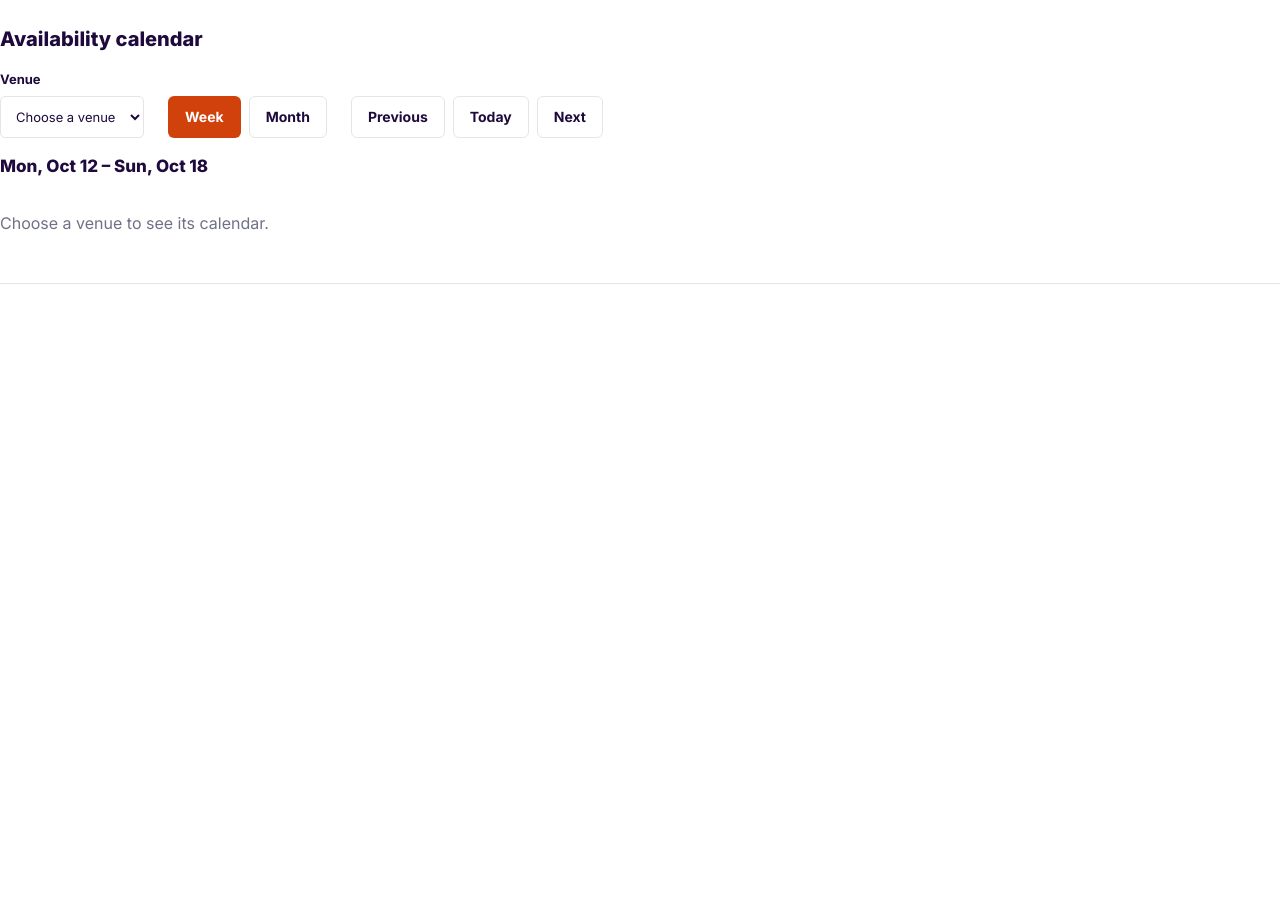
Test: VenueCalendar item details (TC-US21-20, AC 3) › shows the event's name and status, the booking's status, times and reference
The image size is (1280, 900).
Select "Hall A" in the dropdown labelled "Venue" at (72, 116), box [0,96,144,138]
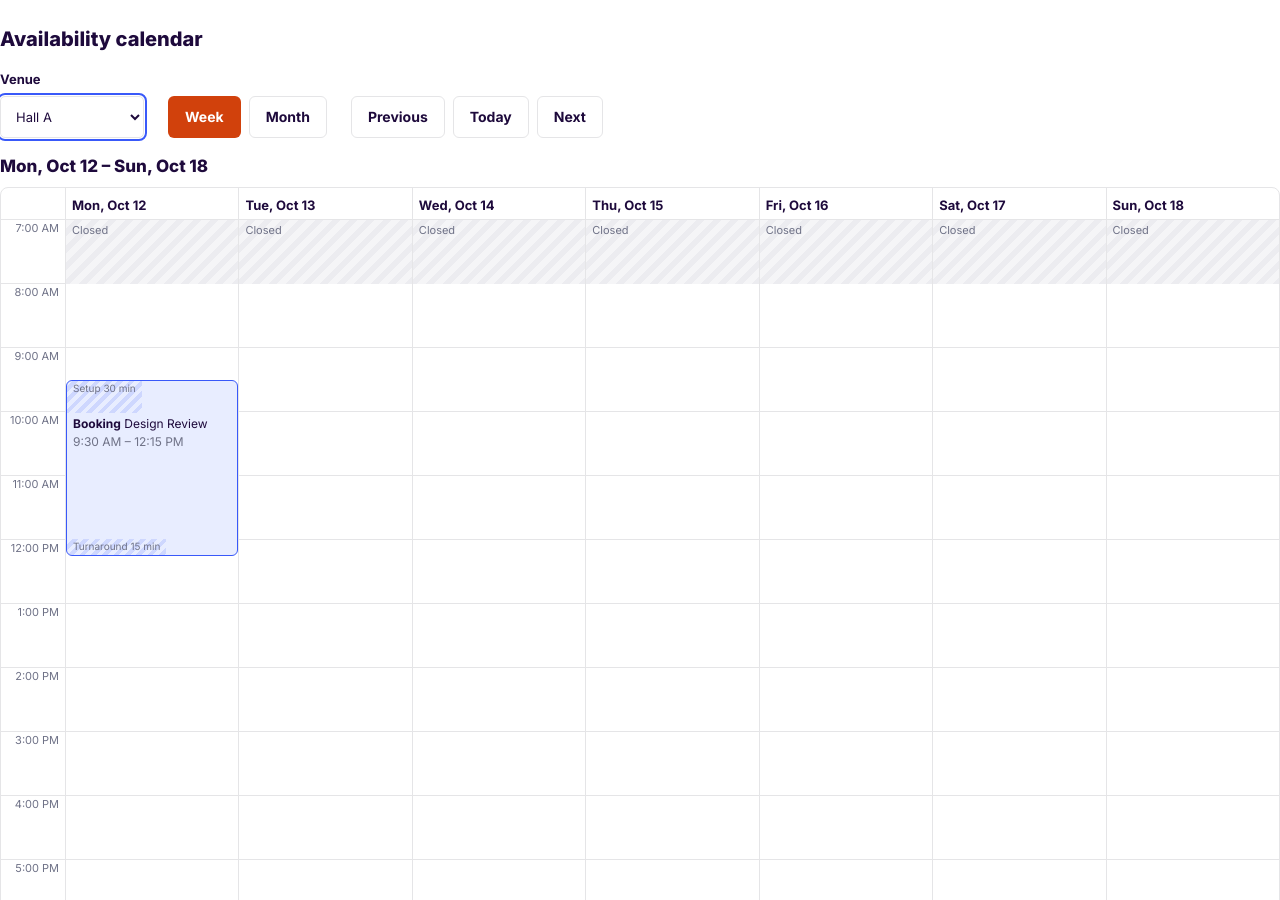
Click the button with aria-label "Booking: Design Review" at (152, 468), box [66,380,238,556]
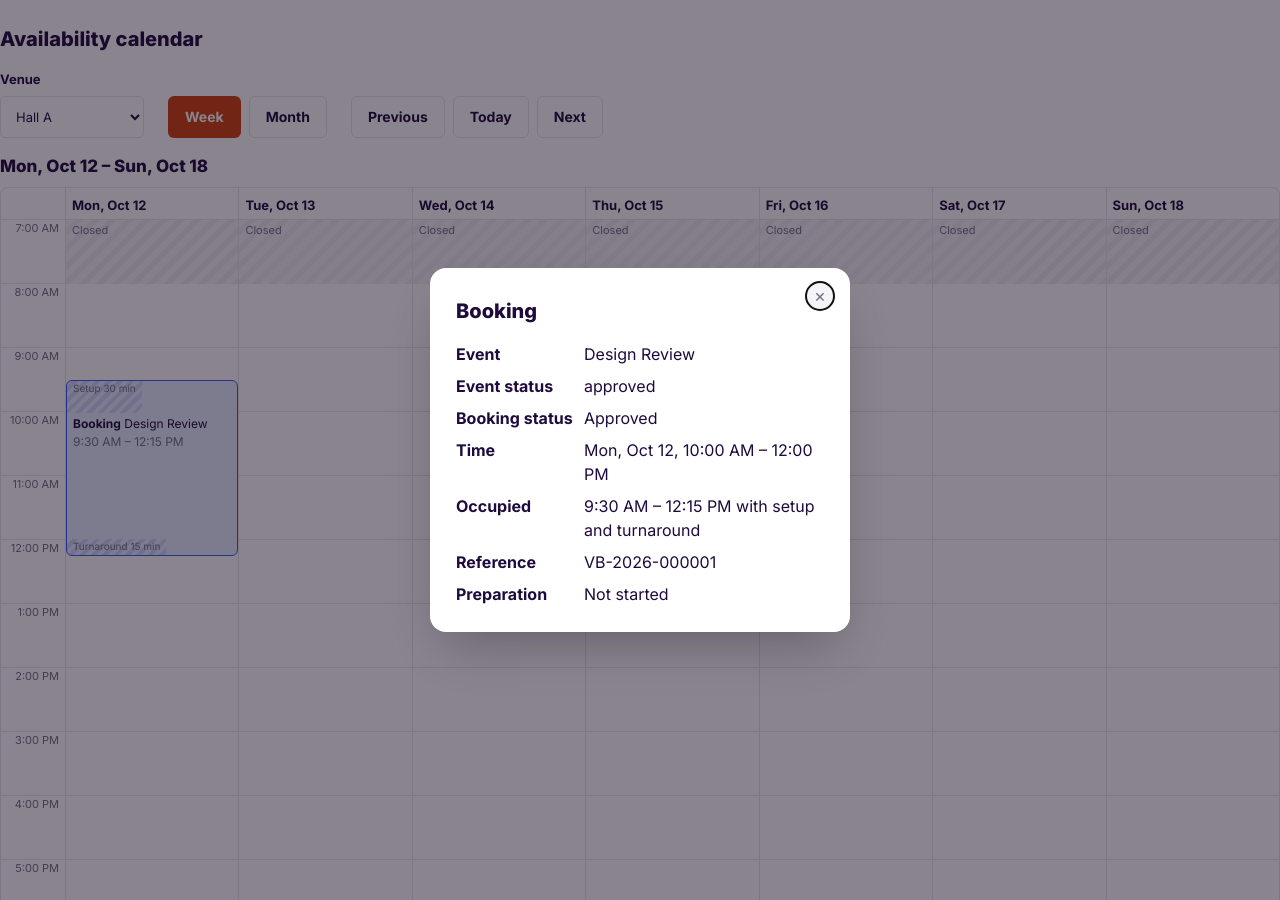
Expected: the text "Design Review" is shown, [584,344,695,364]
Expected: the text "approved" is shown, [584,376,655,396]
Expected: the text "Approved" is shown, [584,408,658,428]
Press Escape
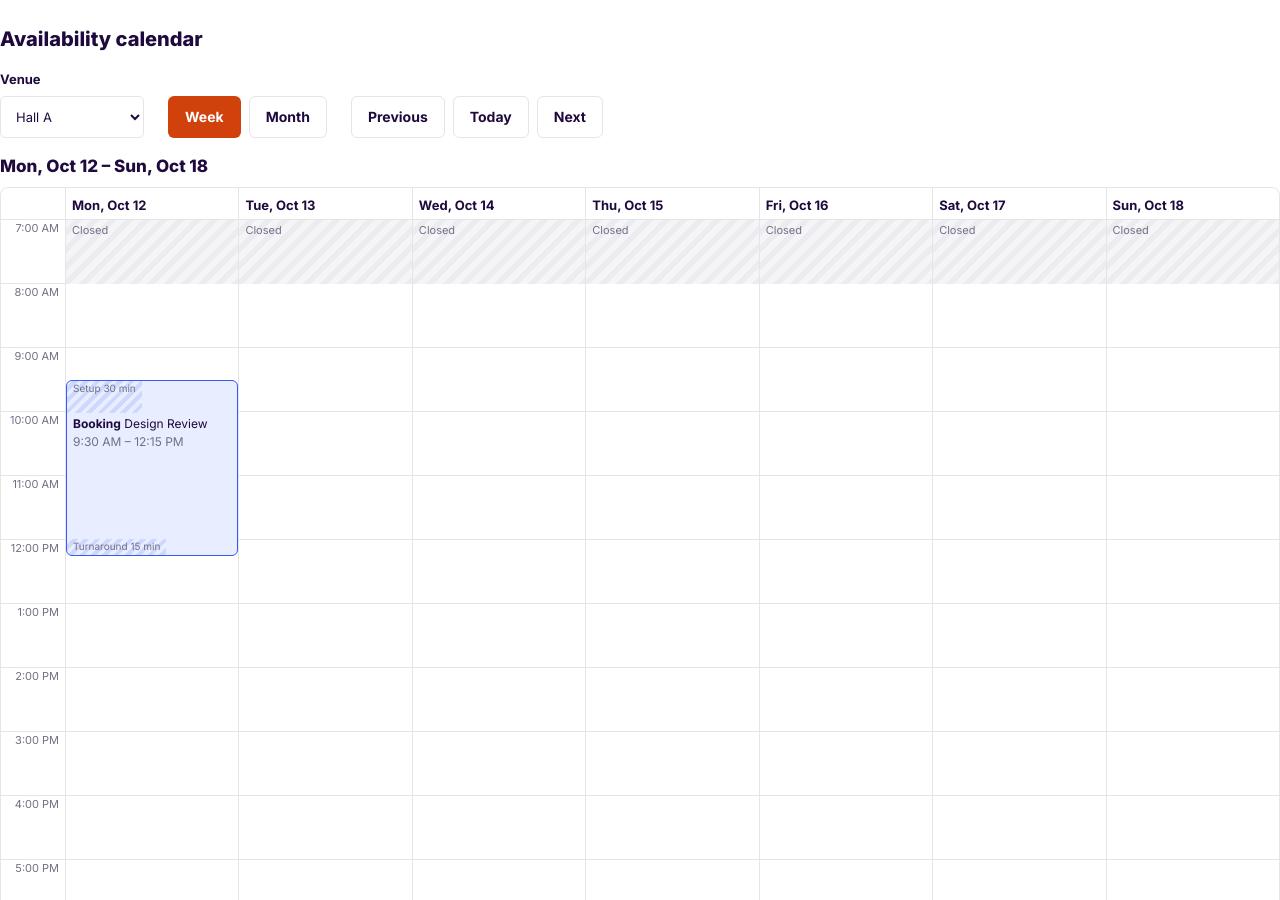
Expected: the dialog is gone
